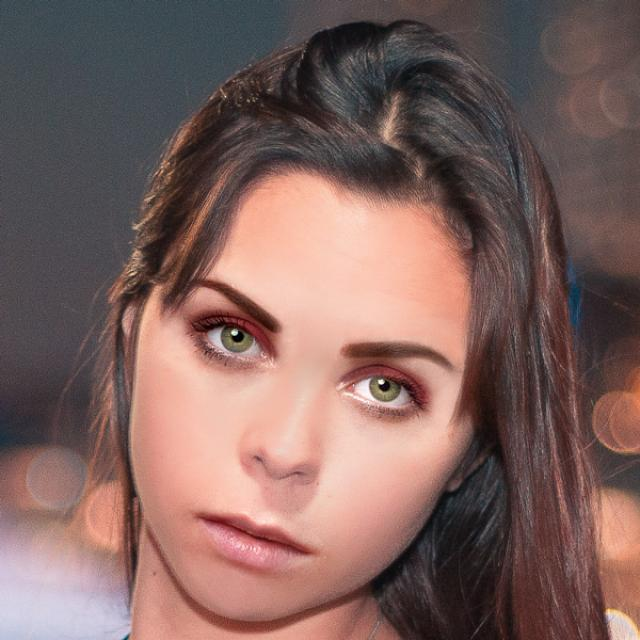face: (93, 34, 558, 605)
